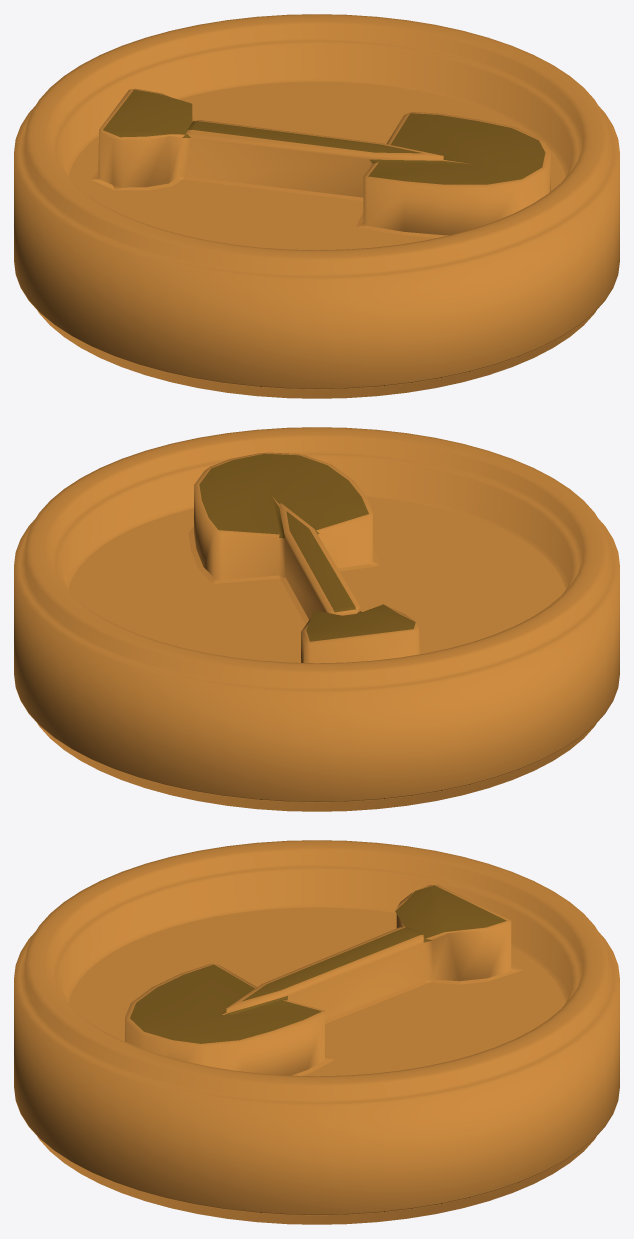
The model's file is coin-shovel.fbx.
3 views of the same model, one above another, from view 1: azimuth 30°, elevation 25°; view 2: azimuth 150°, elevation 25°; view 3: azimuth 270°, elevation 25° (orthographic).
Parts seen in each view (by area): view 1: Cylinder; view 2: Cylinder; view 3: Cylinder.
Boxes of the visible parts, <box> form: Cylinder: <box>14,14,619,398</box>; Cylinder: <box>14,427,619,811</box>; Cylinder: <box>14,840,619,1224</box>.
Size of the model in its own units: 200 by 51.43 by 200.
